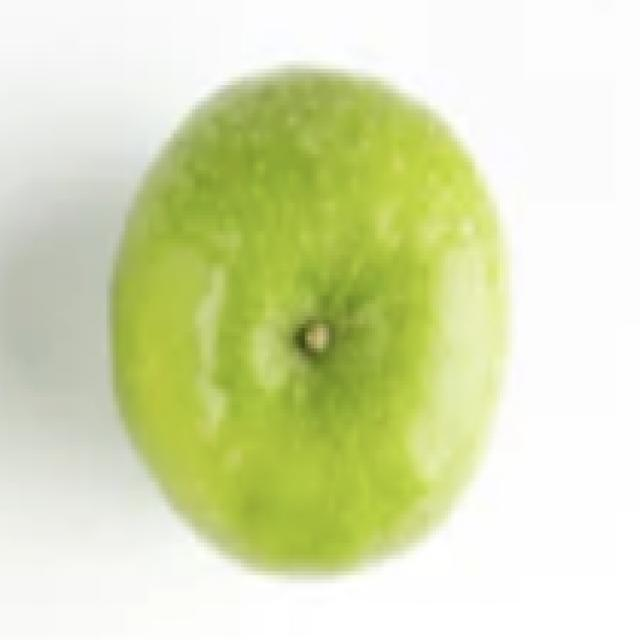Fresh Apple: (120, 73, 495, 560)
